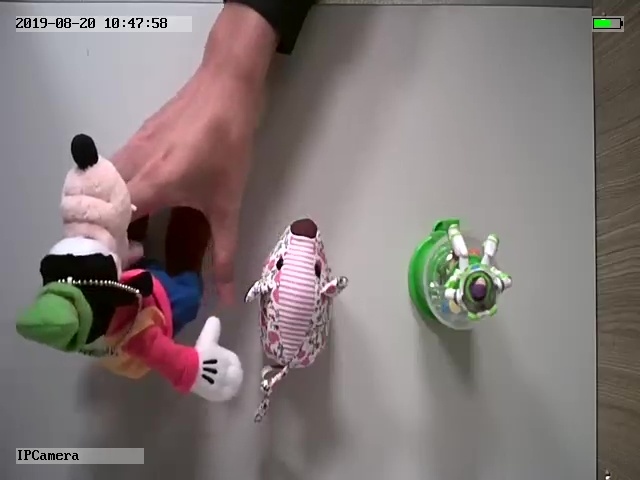buzz: (404, 216, 514, 334)
goofy: (16, 131, 245, 402)
pig: (245, 215, 351, 424)
